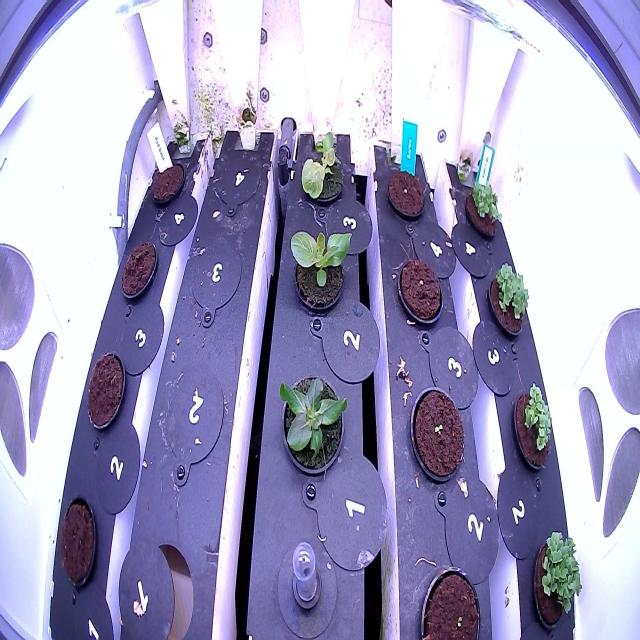empty_pod: (160, 353, 227, 492), (124, 537, 199, 638), (187, 234, 244, 330), (213, 151, 263, 219)
germination: (528, 522, 585, 635), (406, 383, 468, 484), (414, 560, 483, 638), (507, 375, 558, 478), (484, 257, 535, 346), (460, 170, 508, 249)
pod: (54, 491, 104, 598), (83, 343, 132, 438), (395, 247, 445, 333), (117, 231, 164, 309), (146, 152, 188, 217), (386, 164, 427, 224)
young: (268, 368, 357, 489), (286, 211, 354, 322)
